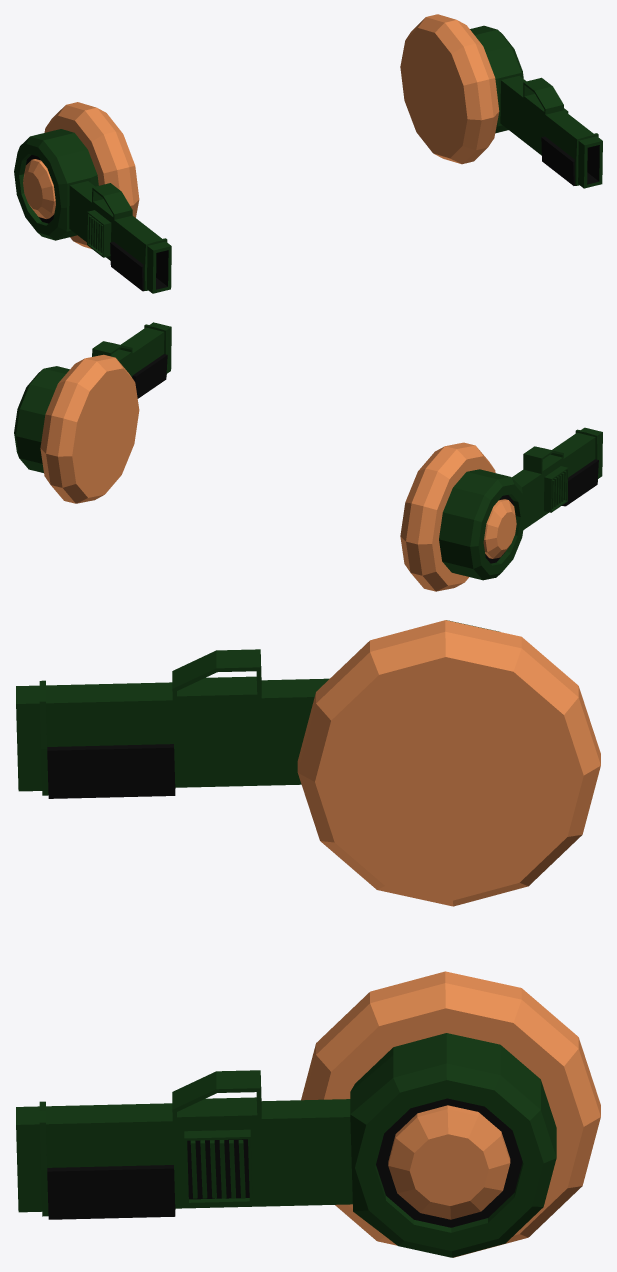
The model's file is Ammo Car v.1.3 Guns..fbx.
3 views of the same model, one above another, from view 1: azimuth 30°, elevation 25°; view 2: azimuth 150°, elevation 25°; view 3: azimuth 270°, elevation 25° (orthographic). The views are drawn at different scales.
Parts seen in each view (by area): view 1: ammocargun; view 2: ammocargun; view 3: ammocargun.
Part boxes in pixels (x1,y1,x2,y2): ammocargun: (14, 14, 602, 293); ammocargun: (14, 322, 602, 591); ammocargun: (16, 620, 600, 1257).
Bounding box in the file's own units: 814 × 226 × 435.
